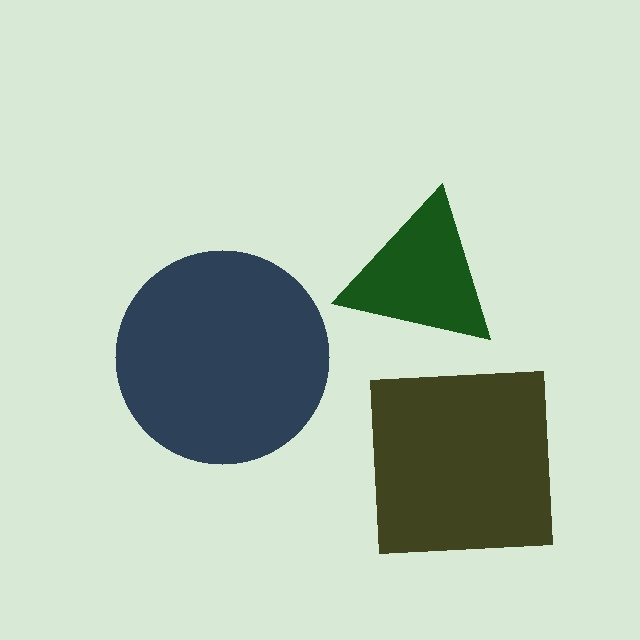circle: (114, 250, 330, 465)
square: (370, 370, 553, 554)
triangle: (330, 183, 490, 340)
